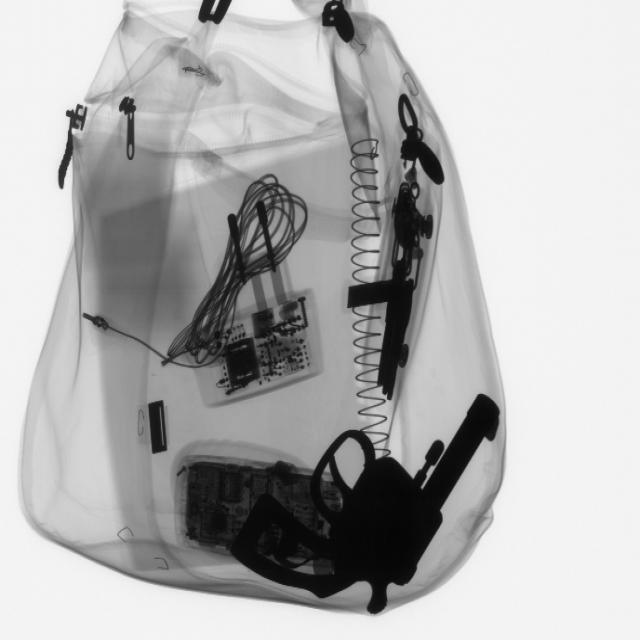GUN: (238, 375, 514, 619)
